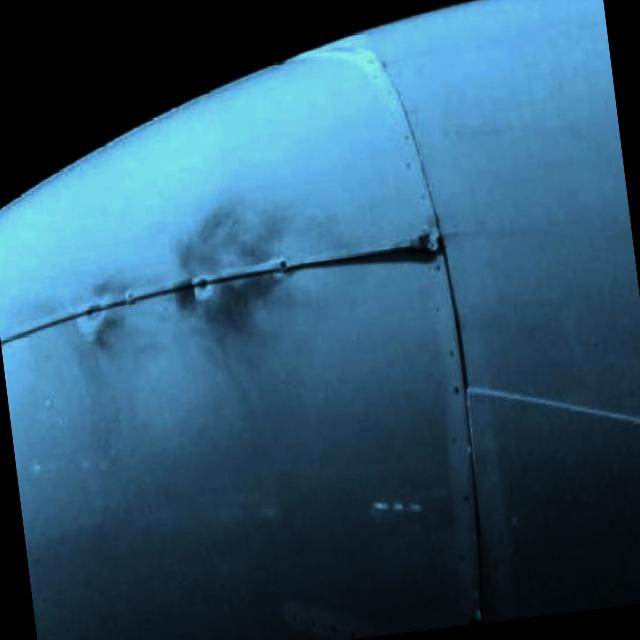crack: (295, 235, 442, 272)
